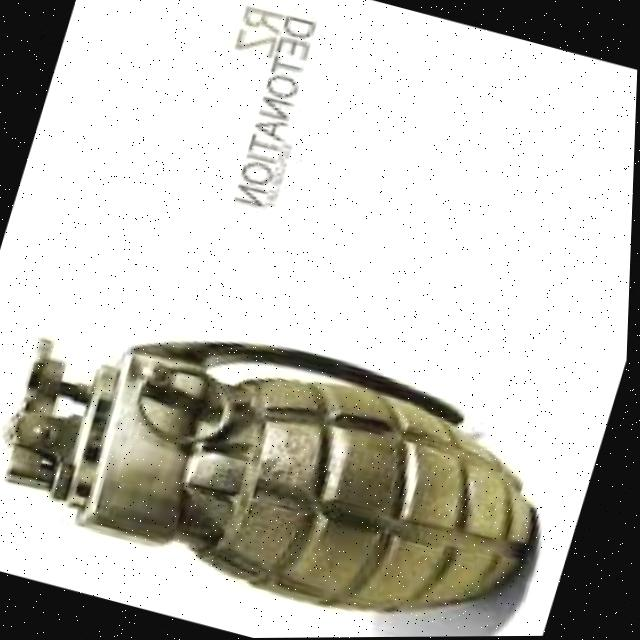grenade: (0, 276, 586, 640)
